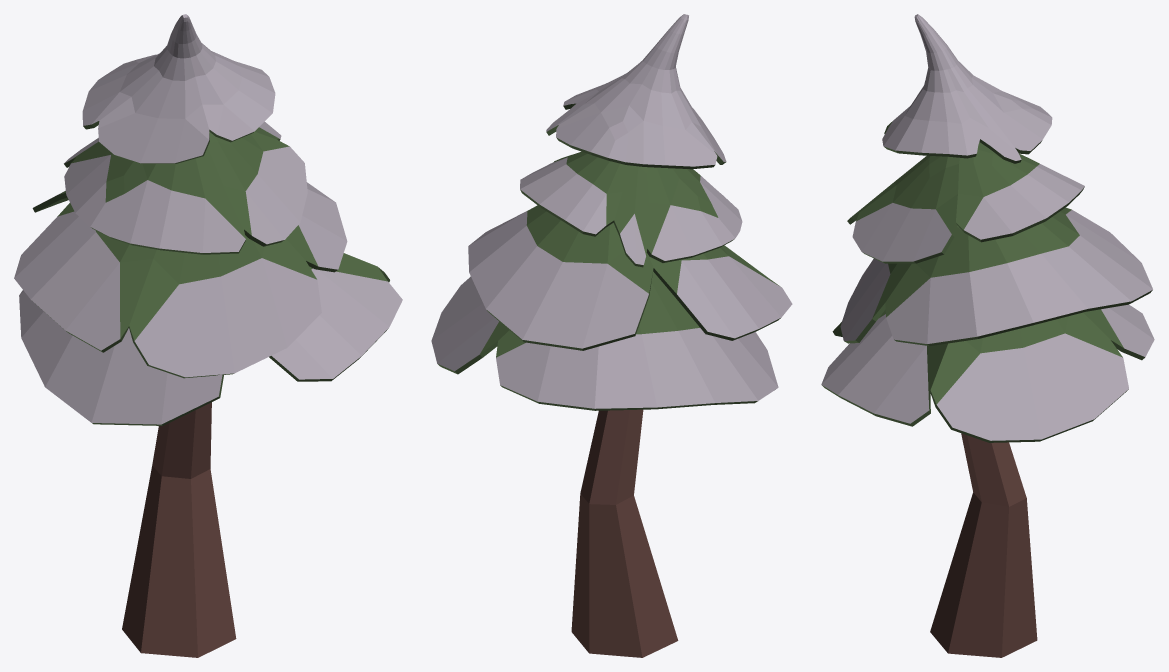
The model's file is PineTree_Snow_5.gltf.
3 views of the same model, side by side, from view 1: azimuth 30°, elevation 25°; view 2: azimuth 150°, elevation 25°; view 3: azimuth 270°, elevation 25° (orthographic). The views are drawn at different scales.
Parts seen in each view (by area): view 1: PineTree_Snow_5; view 2: PineTree_Snow_5; view 3: PineTree_Snow_5.
Boxes of the visible parts, x1,y1,x2,y2 form: PineTree_Snow_5: (14,14,402,657); PineTree_Snow_5: (431,14,792,657); PineTree_Snow_5: (821,14,1154,657).
Bounding box in the file's own units: 1.47 × 2.69 × 1.34.
